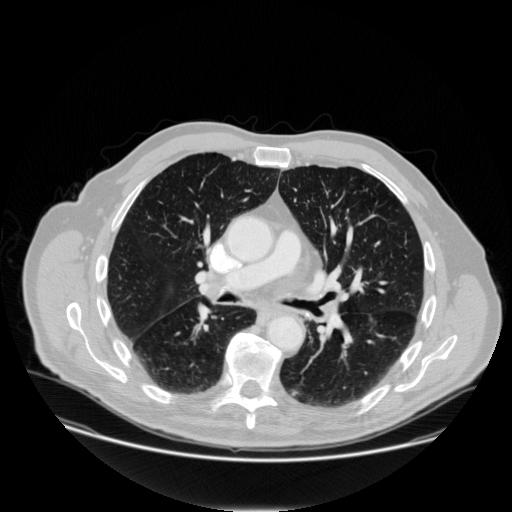nodule: (289, 387, 300, 398)
